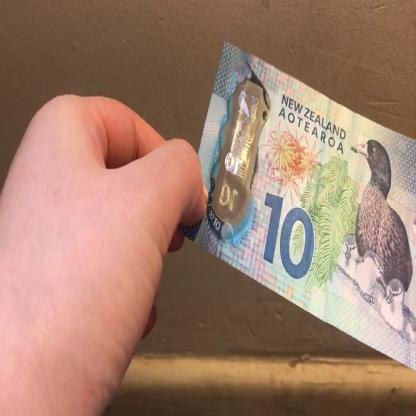10F: (218, 81, 260, 226)
